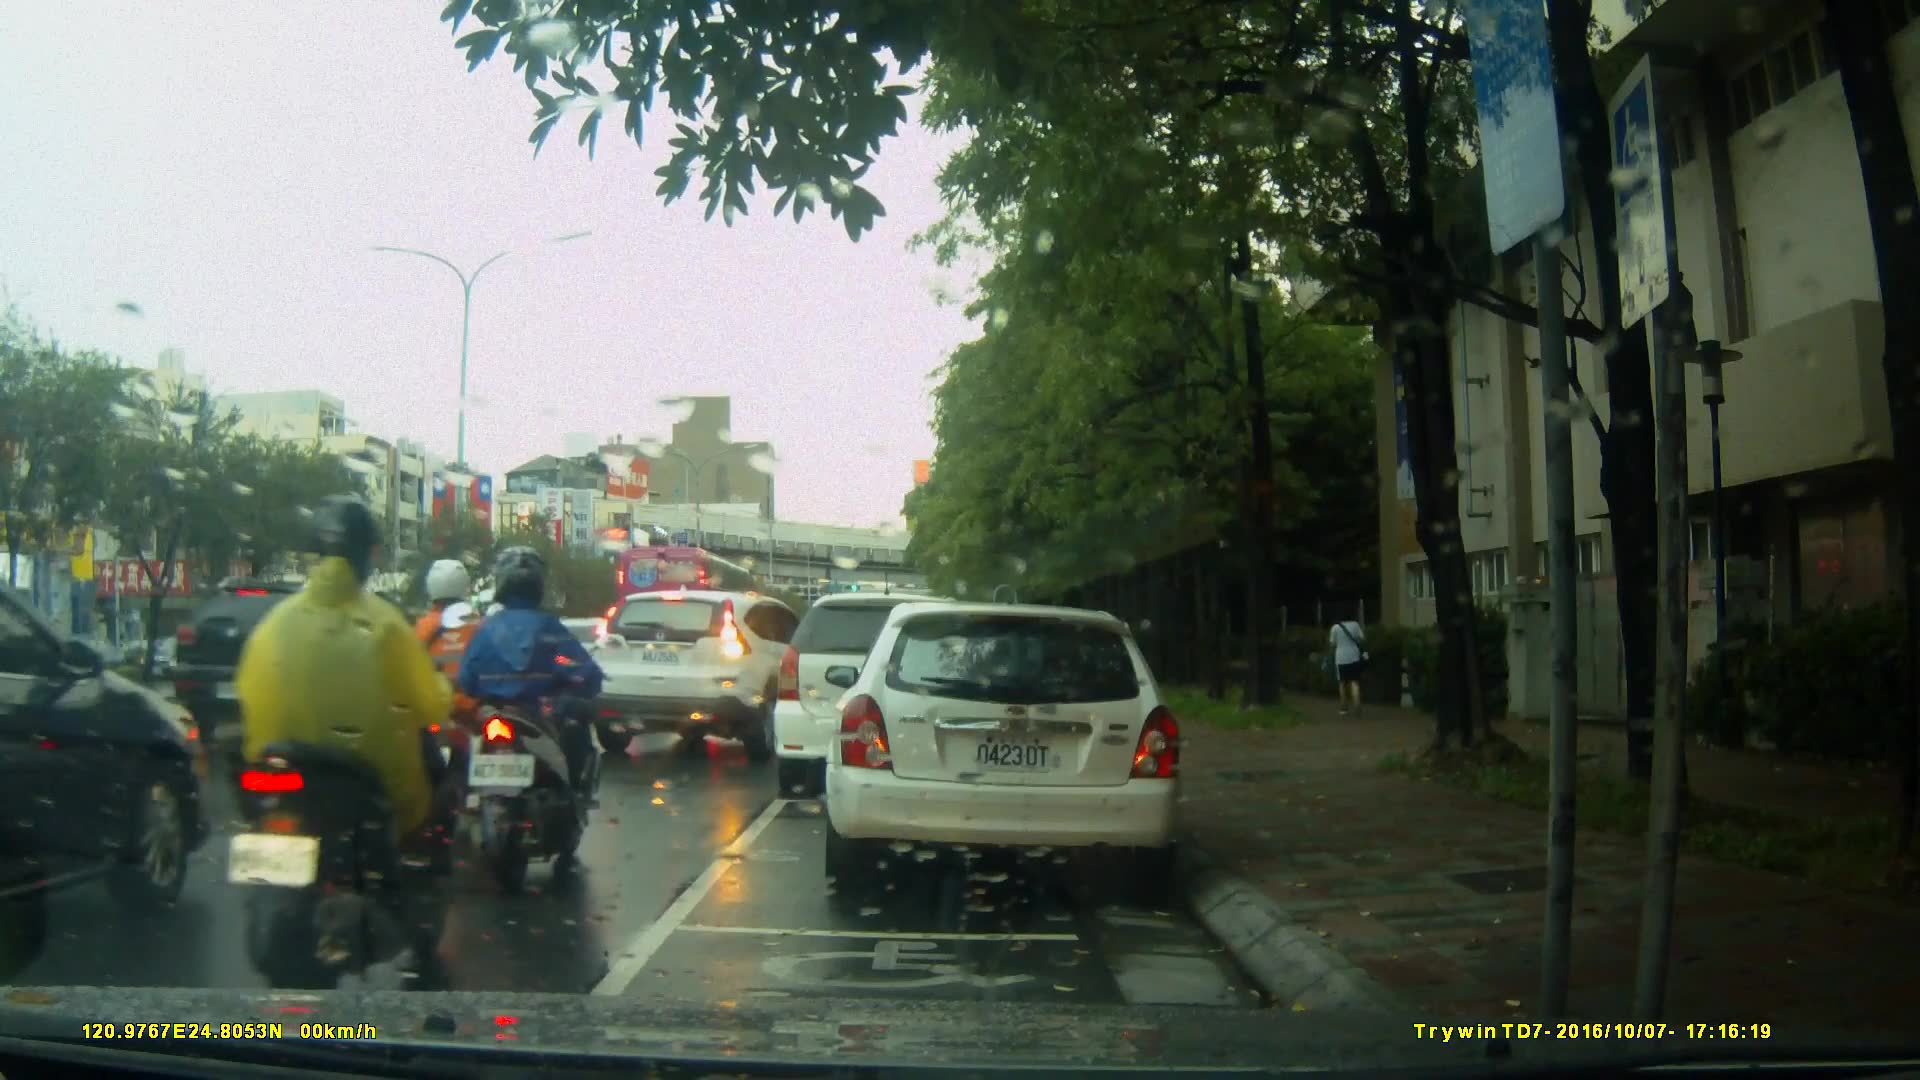pedestrian: (1316, 594, 1375, 730)
rider: (220, 493, 457, 993), (451, 548, 602, 875), (385, 557, 509, 862)
vehicle: (835, 594, 1194, 898), (577, 586, 848, 768), (776, 590, 1026, 784), (153, 571, 408, 751), (616, 543, 755, 636)
